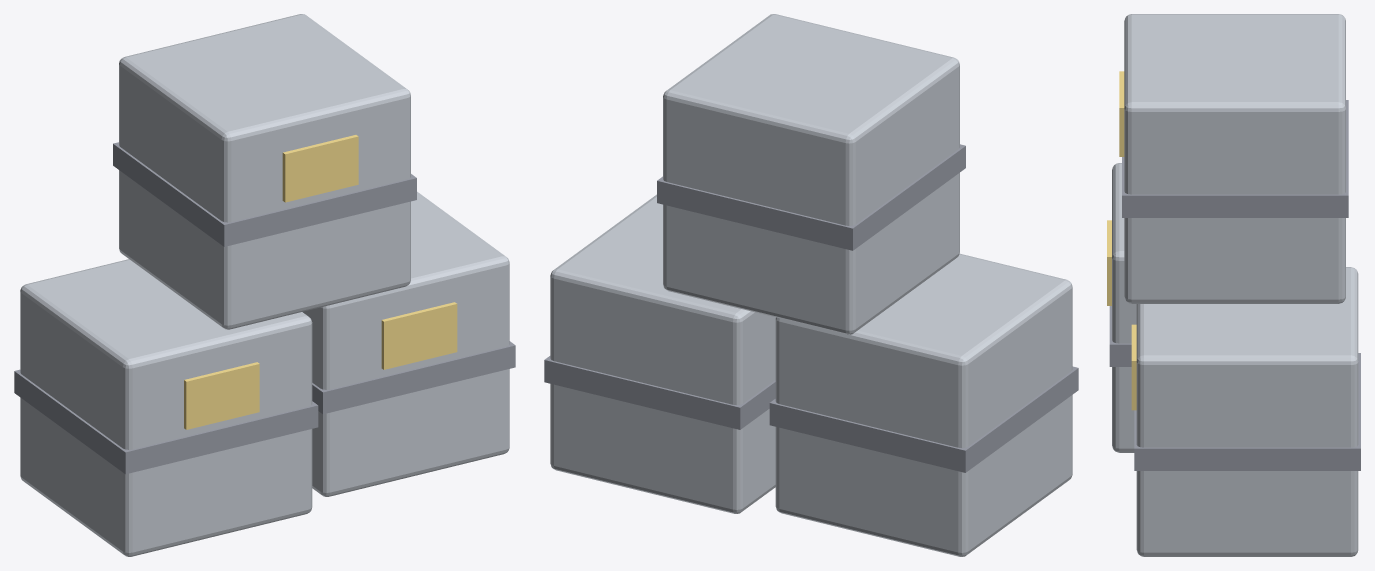
The model's file is fx_crates.glb.
The picture shows the model from 3 angles, left to right: view 1: azimuth 30°, elevation 25°; view 2: azimuth 150°, elevation 25°; view 3: azimuth 270°, elevation 25°; orthographic projection.
Visible parts, largest first — view 1: fx_crates; view 2: fx_crates; view 3: fx_crates.
Part boxes in pixels (x1=…): fx_crates: x1=14, y1=14, x2=515, y2=556; fx_crates: x1=544, y1=14, x2=1078, y2=556; fx_crates: x1=1107, y1=14, x2=1360, y2=556.
Size of the model in its own units: 1.92 by 1.8 by 1.03.
